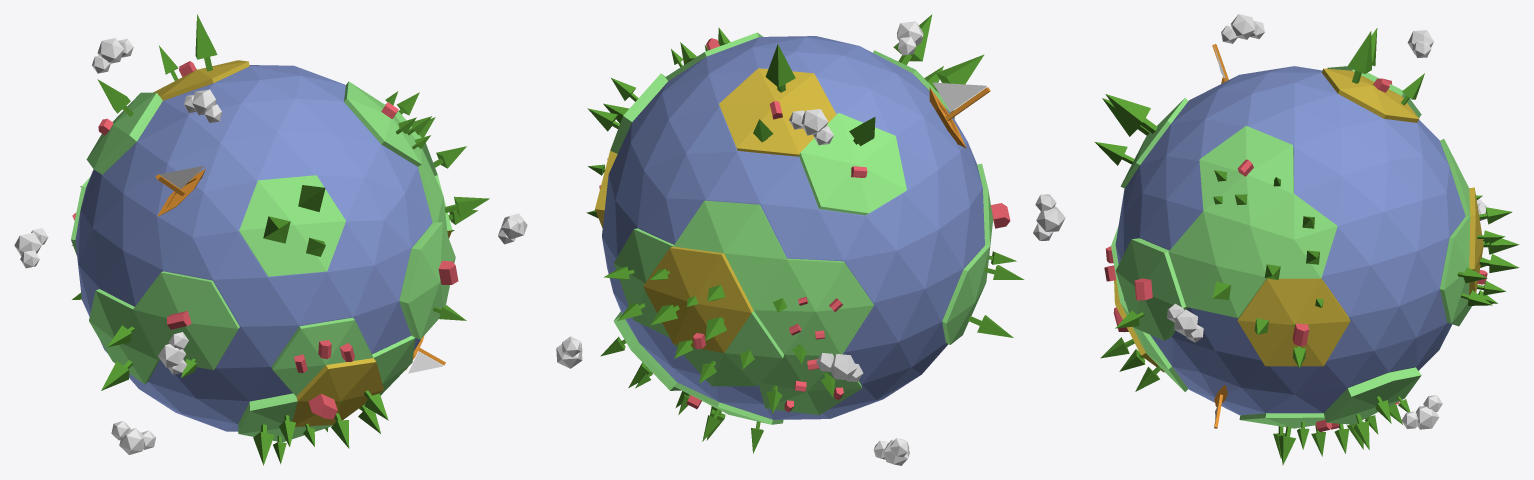
Rendered from planetAnim.glb.
3 renders of one model, left to right at view 1: azimuth 30°, elevation 25°; view 2: azimuth 150°, elevation 25°; view 3: azimuth 270°, elevation 25°, orthographic. The views are drawn at different scales.
Parts seen in each view (by area): view 1: Icosphere.001, Icosphere, Plane.081, Icosphere.003, Icosphere.006, Icosphere.008, Icosphere.005, Icosphere.004, Plane.048, Icosphere.007, Plane.080, Plane.037 (+2 smaller); view 2: Icosphere.001, Icosphere, Plane.081, Icosphere.006, Icosphere.008, Icosphere.005, Plane.048, Icosphere.003, Icosphere.004, Plane.036, Icosphere.002, Plane.037; view 3: Icosphere.001, Icosphere, Plane.037, Icosphere.002, Icosphere.004, Icosphere.007, Plane.048, Icosphere.006, Plane.035.
Boxes of the visible parts, x1=… form: Icosphere.001: x1=75, y1=65, x2=432, y2=431; Icosphere: x1=71, y1=60, x2=455, y2=442; Plane.081: x1=155, y1=165, x2=205, y2=216; Icosphere.003: x1=111, y1=421, x2=155, y2=454; Icosphere.006: x1=92, y1=38, x2=133, y2=73; Icosphere.008: x1=158, y1=332, x2=188, y2=374; Icosphere.005: x1=14, y1=228, x2=48, y2=268; Icosphere.004: x1=184, y1=89, x2=222, y2=122; Plane.048: x1=195, y1=14, x2=217, y2=71; Icosphere.007: x1=498, y1=213, x2=527, y2=244; Plane.080: x1=405, y1=335, x2=445, y2=373; Plane.037: x1=298, y1=185, x2=325, y2=212; Icosphere.001: x1=602, y1=36, x2=984, y2=419; Icosphere: x1=595, y1=32, x2=993, y2=424; Plane.081: x1=929, y1=82, x2=990, y2=148; Icosphere.006: x1=789, y1=109, x2=833, y2=145; Icosphere.008: x1=1033, y1=194, x2=1065, y2=240; Icosphere.005: x1=816, y1=353, x2=863, y2=382; Plane.048: x1=765, y1=44, x2=795, y2=92; Icosphere.003: x1=874, y1=438, x2=909, y2=465; Icosphere.004: x1=897, y1=21, x2=923, y2=55; Plane.036: x1=934, y1=54, x2=984, y2=92; Icosphere.002: x1=556, y1=336, x2=582, y2=368; Plane.037: x1=893, y1=14, x2=932, y2=65; Icosphere.001: x1=1115, y1=66, x2=1465, y2=415; Icosphere: x1=1111, y1=66, x2=1483, y2=428; Plane.037: x1=1105, y1=94, x2=1157, y2=133; Icosphere.002: x1=1401, y1=395, x2=1442, y2=429; Icosphere.004: x1=1221, y1=14, x2=1264, y2=43; Icosphere.007: x1=1167, y1=303, x2=1203, y2=342; Plane.048: x1=1347, y1=31, x2=1371, y2=83; Icosphere.006: x1=1407, y1=30, x2=1433, y2=57; Plane.035: x1=1094, y1=141, x2=1134, y2=165.
Size of the model in its own units: 2.55 by 2.49 by 2.47.
